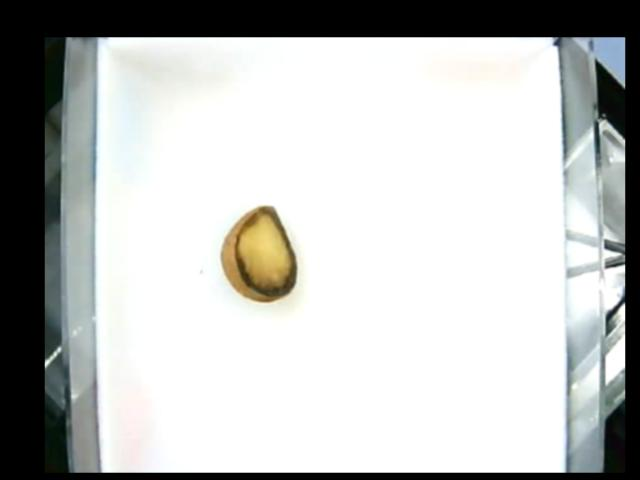Potato: (219, 204, 298, 305)
